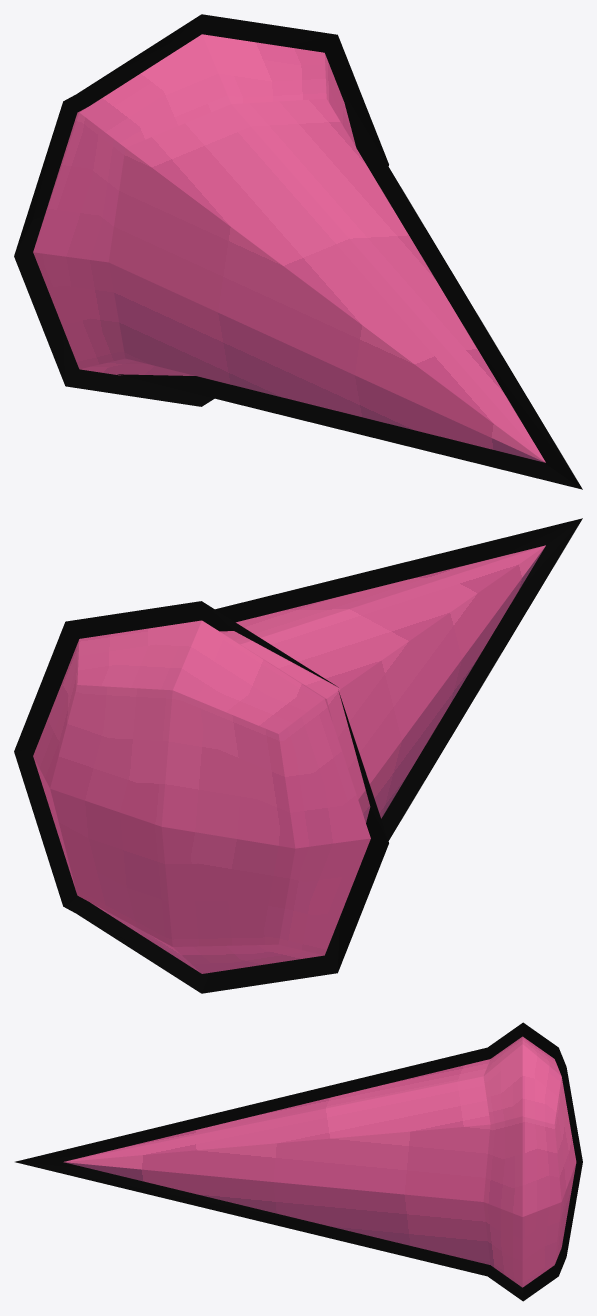
Rendered from TONGUE.glb.
3 renders of one model, top to bottom at view 1: azimuth 30°, elevation 25°; view 2: azimuth 150°, elevation 25°; view 3: azimuth 270°, elevation 25°, orthographic. The views are drawn at different scales.
Visible parts, largest first — view 1: Cube.008; view 2: Cube.008; view 3: Cube.008.
Boxes of the visible parts, x1=… form: Cube.008: x1=14, y1=14, x2=582, y2=489; Cube.008: x1=14, y1=518, x2=582, y2=993; Cube.008: x1=15, y1=1022, x2=582, y2=1301.
Size of the model in its own units: 0.6307 by 0.6307 by 1.24.
Materials: 1 (1 with a texture image).
